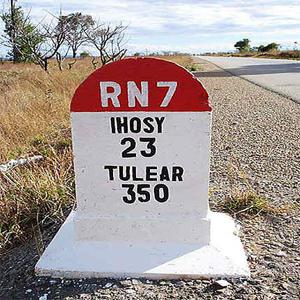kmstone: (65, 55, 218, 243)
